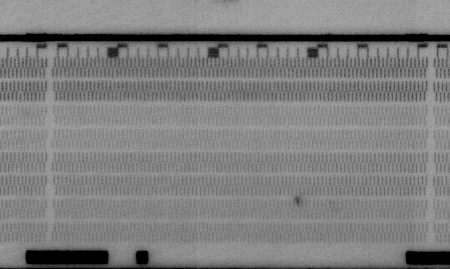Oblique printing: (14, 92, 27, 104)
